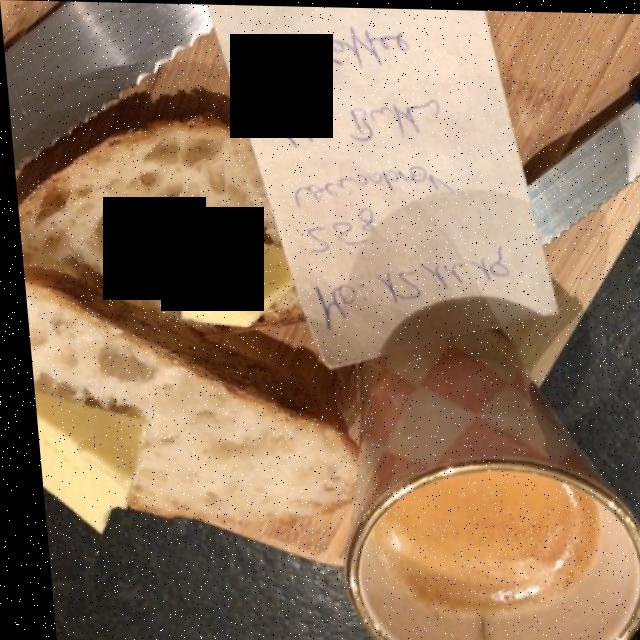bread-white: (28, 116, 340, 531)
coffee-with-caffeine: (377, 471, 589, 601)
